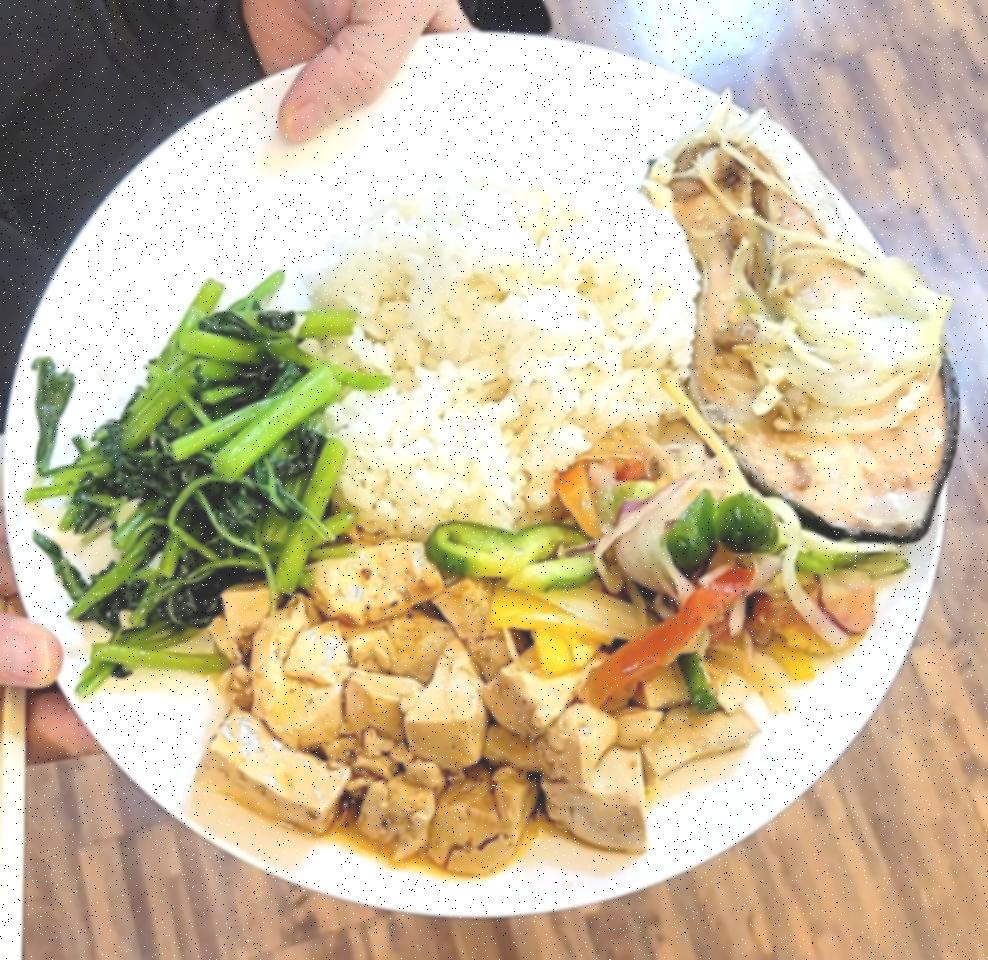big fried chicken leg: (0, 20, 946, 917)
big herbal chicken leg: (308, 142, 688, 526)
braised fish fillet: (211, 532, 638, 874), (437, 432, 886, 716), (29, 294, 334, 660)
brown rice: (650, 124, 960, 542)
